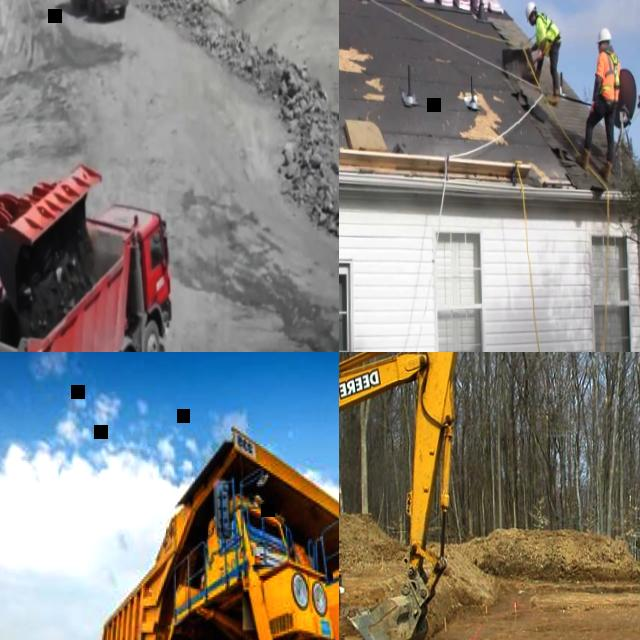Hardhat: (596, 29, 611, 43), (525, 3, 536, 22)
NO-Mask: (530, 15, 536, 27), (598, 43, 606, 52)
Person: (573, 28, 622, 182), (525, 1, 561, 108)
Safety Vest: (598, 51, 620, 101), (536, 12, 559, 56)
vehicle: (94, 411, 339, 640), (339, 352, 466, 640), (0, 198, 173, 352), (0, 161, 106, 352), (63, 0, 130, 21)
